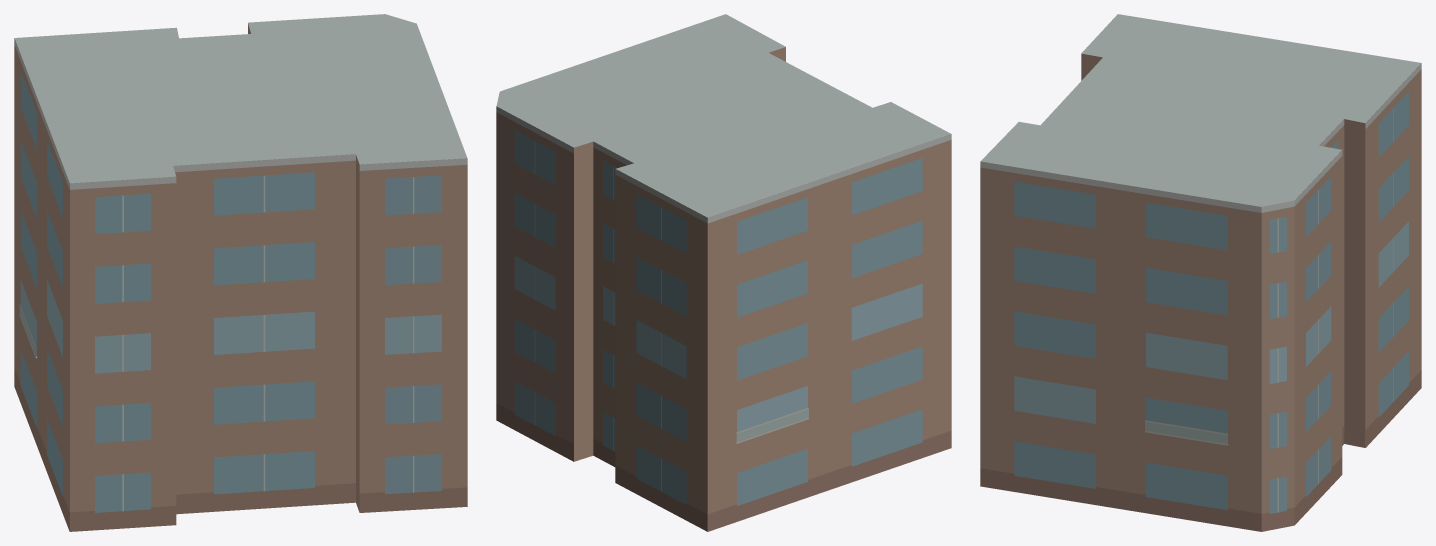
Rendered from survey-upis-32876774.glb.
3 views of the same model, side by side, from view 1: azimuth 30°, elevation 25°; view 2: azimuth 150°, elevation 25°; view 3: azimuth 270°, elevation 25° (orthographic). The views are drawn at different scales.
Visible parts, largest first — view 1: survey-upis-32876774.tmp; view 2: survey-upis-32876774.tmp; view 3: survey-upis-32876774.tmp.
Part boxes in pixels (x1,y1,x2,y2): survey-upis-32876774.tmp: (14,14,467,531); survey-upis-32876774.tmp: (496,14,951,531); survey-upis-32876774.tmp: (980,14,1421,531).
Bounding box in the file's own units: 16.82 × 13.2 × 16.26.
